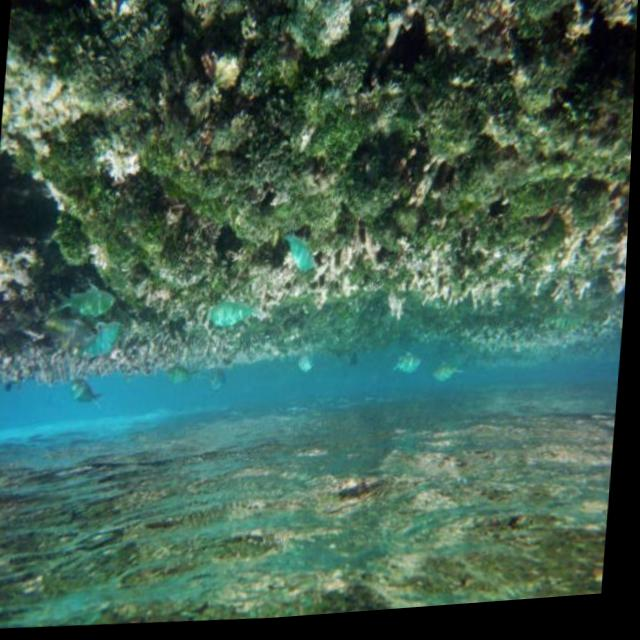Healthy Coral: (55, 11, 634, 374)
